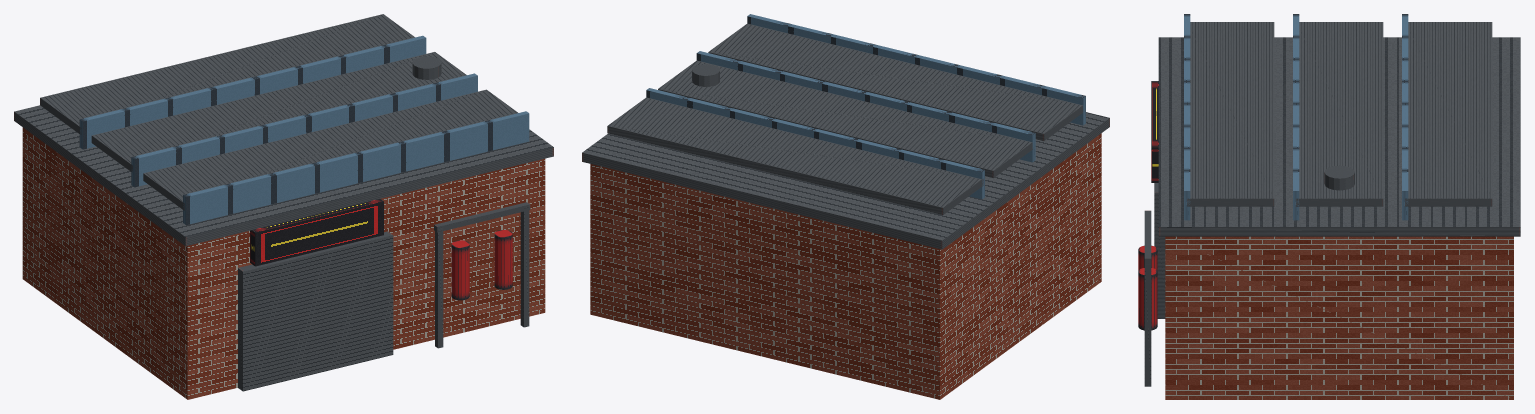
File: building_dojo_02_modern_training_hall.glb
3 renders of one model, left to right at view 1: azimuth 30°, elevation 25°; view 2: azimuth 150°, elevation 25°; view 3: azimuth 270°, elevation 25°, orthographic. The views are drawn at different scales.
Parts seen in each view (by area): view 1: Building_Dojo_02_Modern_Training_Hall; view 2: Building_Dojo_02_Modern_Training_Hall; view 3: Building_Dojo_02_Modern_Training_Hall.
Part boxes in pixels (box(x1,y1,x2,y2)): Building_Dojo_02_Modern_Training_Hall: box(14, 14, 553, 399); Building_Dojo_02_Modern_Training_Hall: box(582, 14, 1109, 399); Building_Dojo_02_Modern_Training_Hall: box(1138, 14, 1520, 399).
Size of the model in its own units: 10.3 by 5.3 by 8.77.
Materials: 1 (1 with a texture image).
